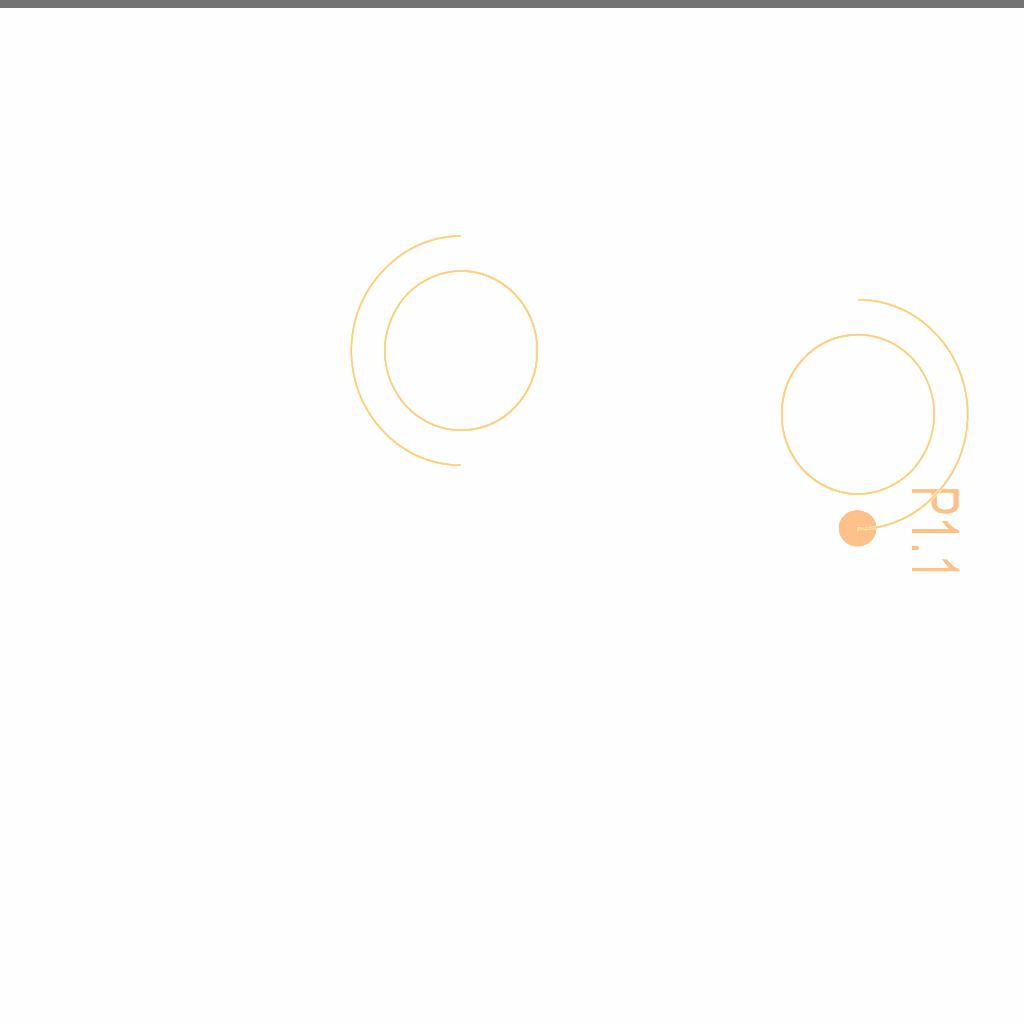Downlight_LED_Einbauleuchten_Flur: (835, 485, 963, 578)
Scheinwerfer_fuer_Alarmbeleuchtung: (339, 225, 564, 489), (755, 276, 980, 540)
